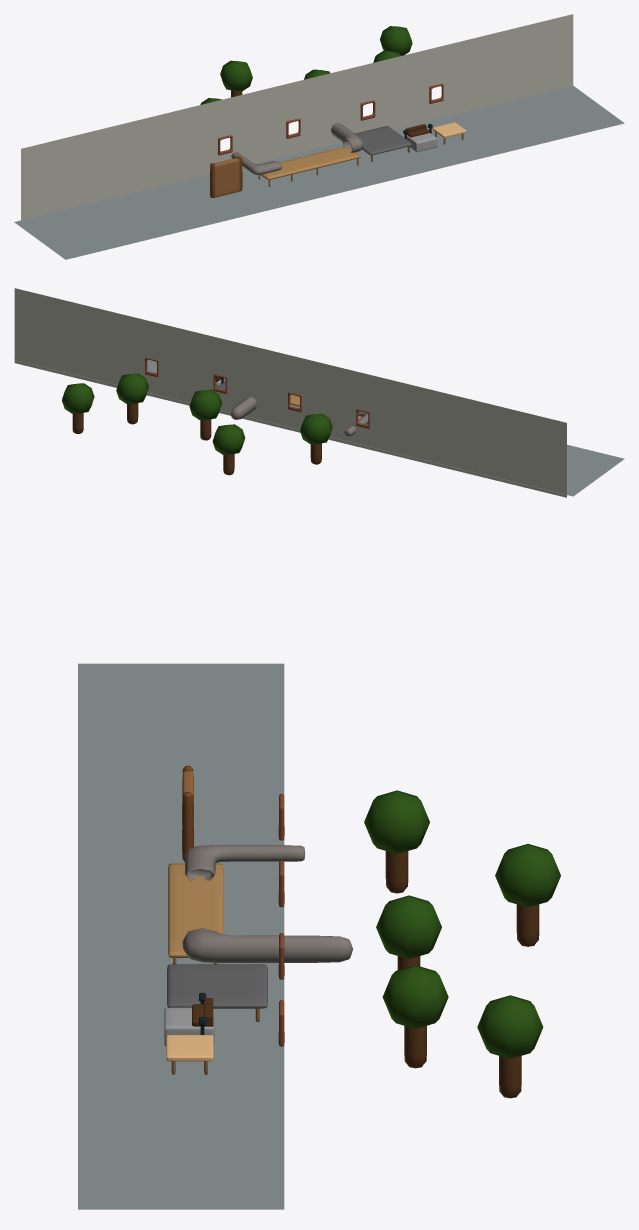
Rendered from workshop.glb.
3 renders of one model, top to bottom at view 1: azimuth 30°, elevation 25°; view 2: azimuth 150°, elevation 25°; view 3: azimuth 270°, elevation 25°, orthographic. The views are drawn at different scales.
Visible parts, largest first — view 1: Wall.001, ConcreteFloor, AssemblyLineTableTop, CircuitTableTop, JobBoardFace, Cube.003, Cube.004, ConveryorBeltExit, ConveryorBeltSource, CodeTableBody; view 2: Wall.001, ConcreteFloor, Cube.001, Cube.003, Cube.005, Cube.004, Cube.002, ConveryorBeltExit; view 3: ConcreteFloor, ConveryorBeltExit, CircuitTableTop, AssemblyLineTableTop, Cube.004, Cube.002, Cube.005, Cube.003, Cube.001, ConveryorBeltSource, InspectionTable, CodeTableBody (+2 smaller).
Boxes of the visible parts, box(x1,y1,x2,y2) form: Wall.001: box(21, 14, 573, 220); ConcreteFloor: box(14, 86, 624, 259); AssemblyLineTableTop: box(261, 147, 360, 179); CircuitTableTop: box(355, 126, 412, 155); JobBoardFace: box(214, 158, 239, 197); Cube.003: box(220, 60, 252, 91); Cube.004: box(380, 26, 412, 55); ConveryorBeltExit: box(331, 122, 363, 152); ConveryorBeltSource: box(231, 152, 281, 174); CodeTableBody: box(404, 132, 437, 152); Wall.001: box(14, 288, 566, 497); ConcreteFloor: box(14, 359, 624, 496); Cube.001: box(189, 389, 221, 420); Cube.003: box(212, 424, 245, 454); Cube.005: box(116, 373, 148, 403); Cube.004: box(62, 383, 94, 413); Cube.002: box(300, 413, 332, 444); ConveryorBeltExit: box(231, 396, 256, 419); ConcreteFloor: box(78, 663, 284, 1209); ConveryorBeltExit: box(182, 928, 353, 962); CircuitTableTop: box(167, 964, 267, 1008); AssemblyLineTableTop: box(168, 863, 223, 957); Cube.004: box(477, 995, 543, 1058); Cube.002: box(364, 790, 429, 853); Cube.005: box(382, 965, 448, 1028); Cube.003: box(495, 844, 560, 907); Cube.001: box(376, 895, 441, 958); ConveryorBeltSource: box(185, 845, 305, 880); InspectionTable: box(166, 1035, 213, 1061); CodeTableBody: box(164, 1007, 214, 1046).
Size of what is drawn, in the model's own units: 58.83 by 7.54 by 22.01.
